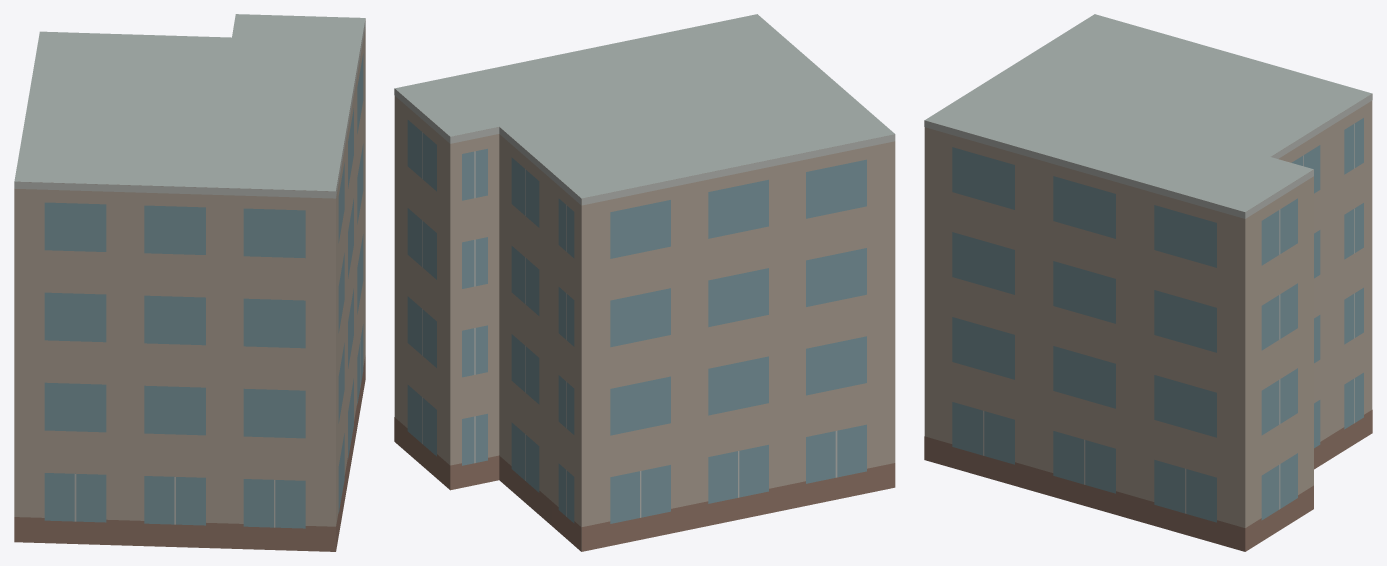
The model's file is residential-5c13da9f-8677-46ae-a278-f565c07c6365.glb.
3 renders of one model, left to right at view 1: azimuth 30°, elevation 25°; view 2: azimuth 150°, elevation 25°; view 3: azimuth 270°, elevation 25°, orthographic. The views are drawn at different scales.
Parts seen in each view (by area): view 1: residential-5c13da9f-8677-46ae-a278-f565c07c6365.tmp; view 2: residential-5c13da9f-8677-46ae-a278-f565c07c6365.tmp; view 3: residential-5c13da9f-8677-46ae-a278-f565c07c6365.tmp.
Boxes of the visible parts, x1=… form: residential-5c13da9f-8677-46ae-a278-f565c07c6365.tmp: x1=14, y1=14, x2=365, y2=551; residential-5c13da9f-8677-46ae-a278-f565c07c6365.tmp: x1=394, y1=14, x2=895, y2=551; residential-5c13da9f-8677-46ae-a278-f565c07c6365.tmp: x1=924, y1=14, x2=1372, y2=551.
Size of the model in its own units: 15.28 by 12.2 by 14.59.
